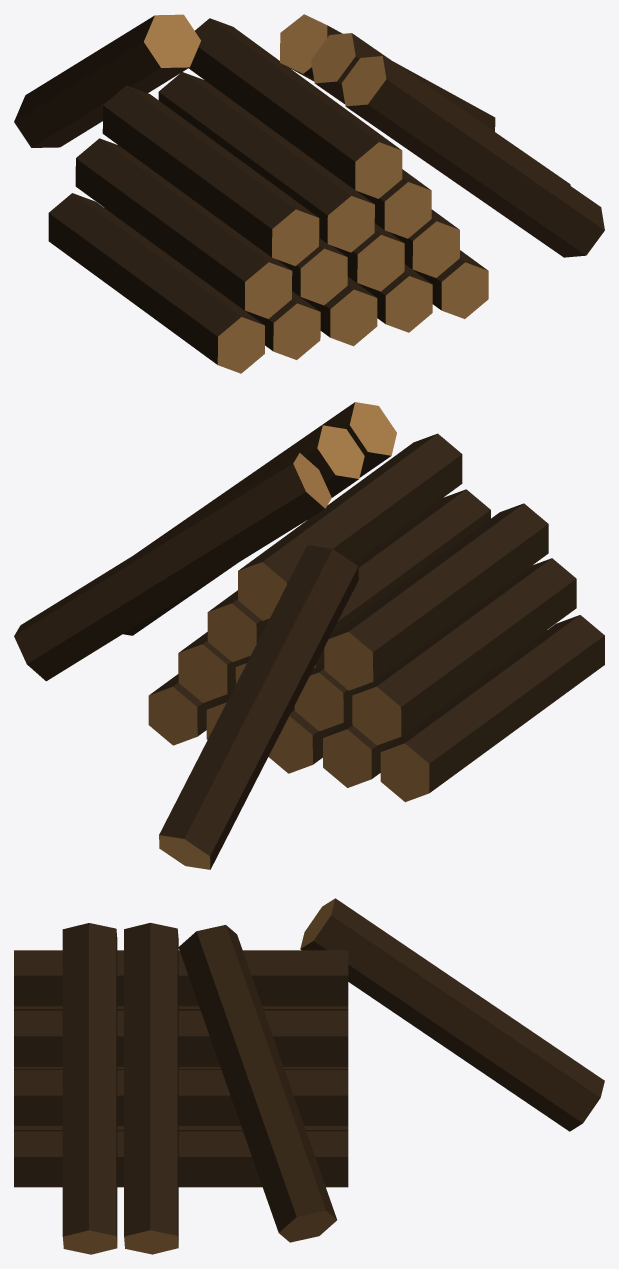
Rendered from houzbigi_1.fbx.
3 views of the same model, one above another, from view 1: azimuth 30°, elevation 25°; view 2: azimuth 150°, elevation 25°; view 3: azimuth 270°, elevation 25° (orthographic). The views are drawn at different scales.
Parts seen in each view (by area): view 1: Houzbigi_2; view 2: Houzbigi_2; view 3: Houzbigi_2.
Boxes of the visible parts, x1=… form: Houzbigi_2: x1=14, y1=14, x2=604, y2=373; Houzbigi_2: x1=14, y1=402, x2=604, y2=869; Houzbigi_2: x1=14, y1=898, x2=604, y2=1254.
Size of the model in its own units: 0.6343 by 0.3599 by 0.7792.
